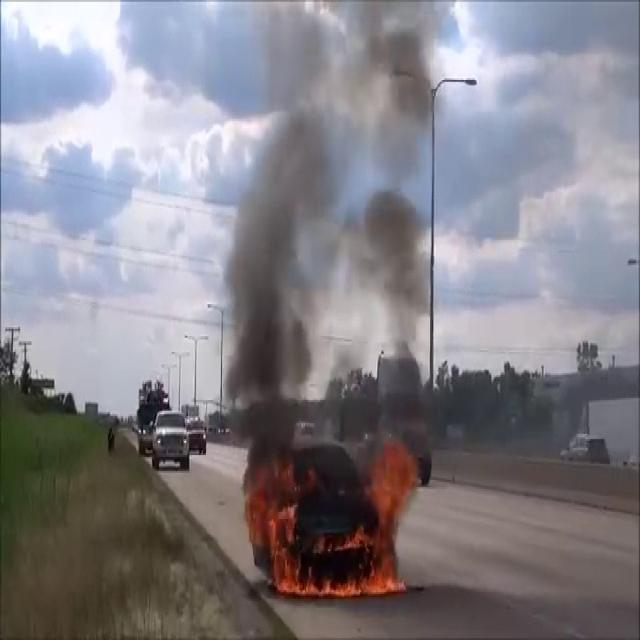Fire: (254, 439, 421, 603)
Smoke: (221, 1, 437, 437)
